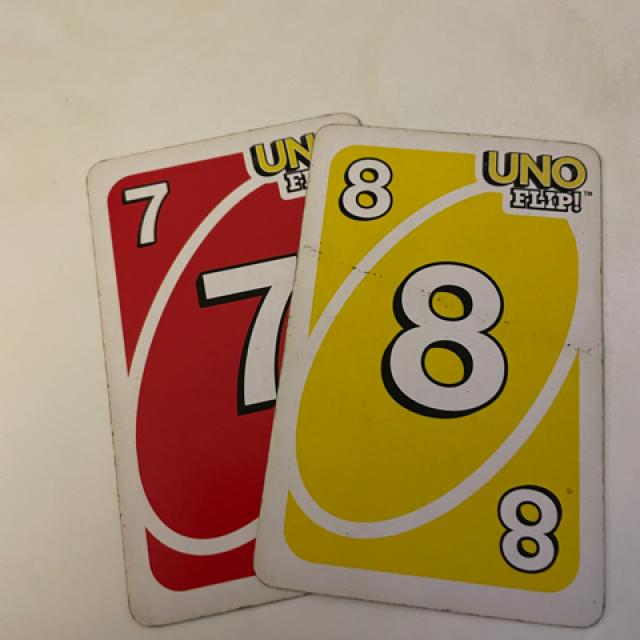lred-7: (104, 167, 199, 261)
lyellow-8: (327, 143, 417, 235)
